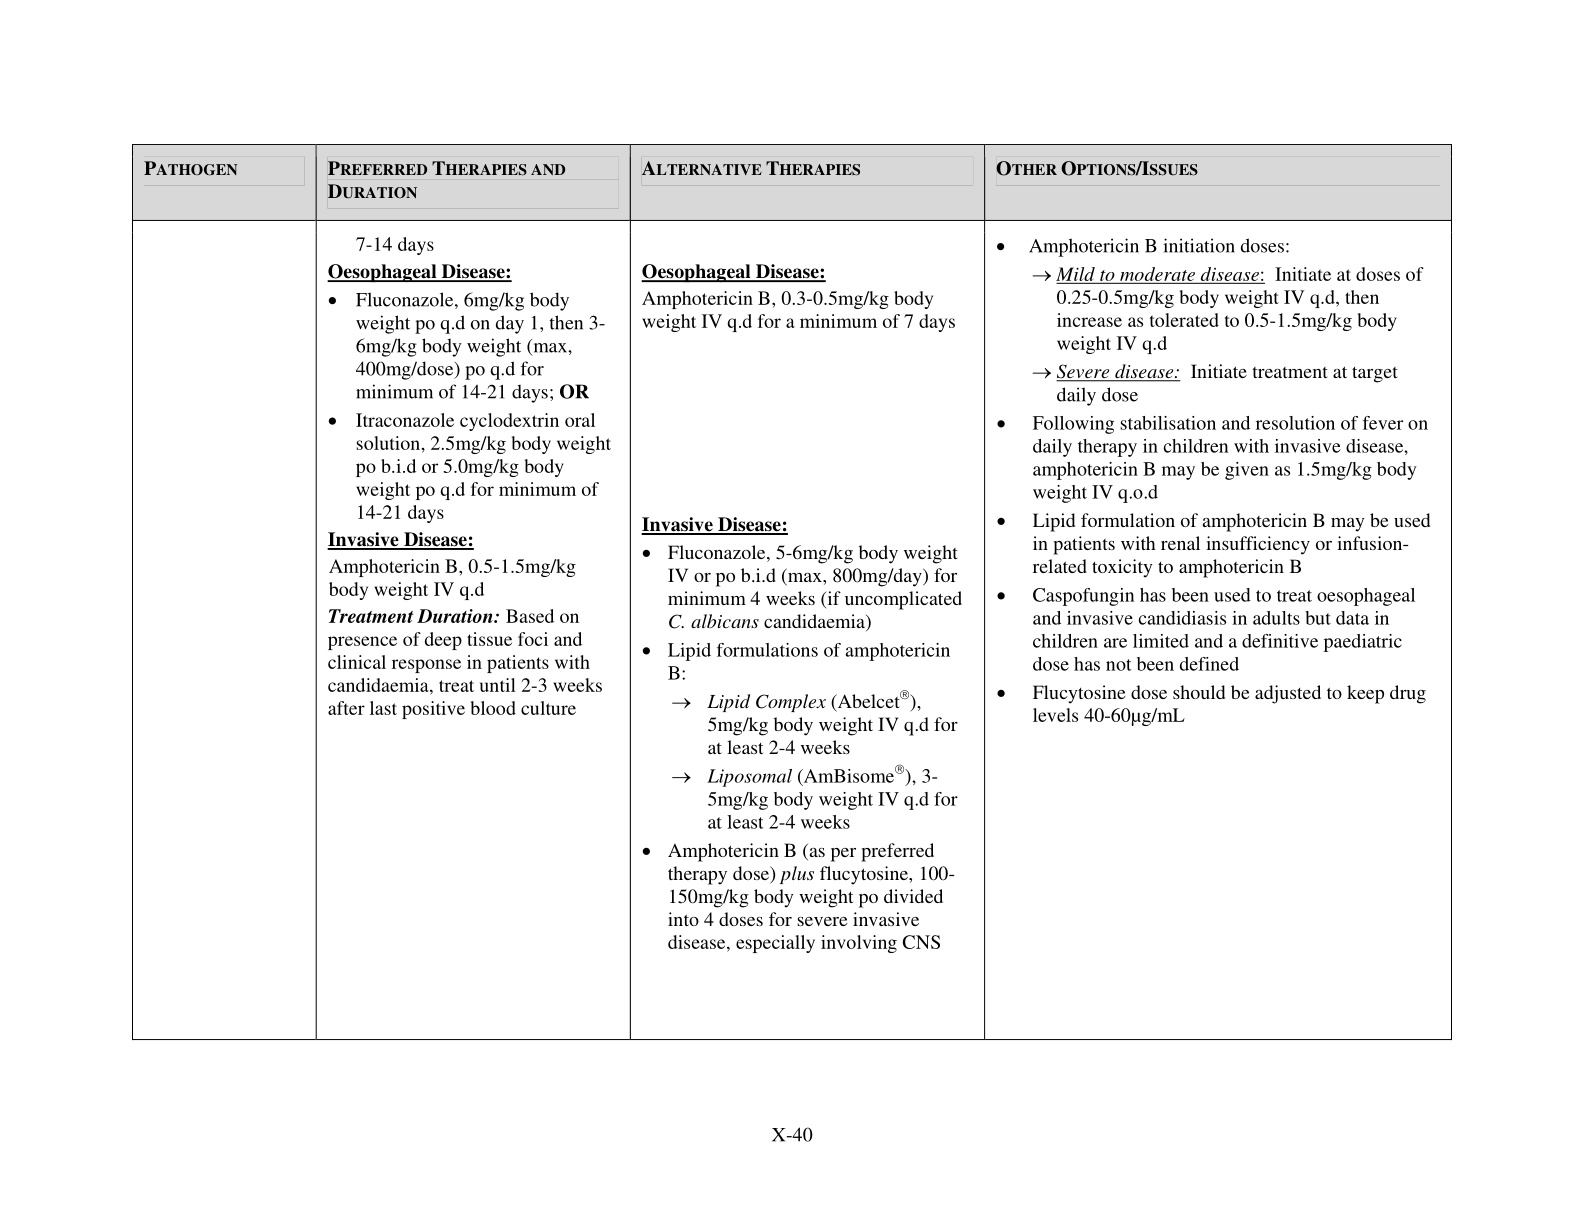full_lined: (131, 143, 1453, 1041)
